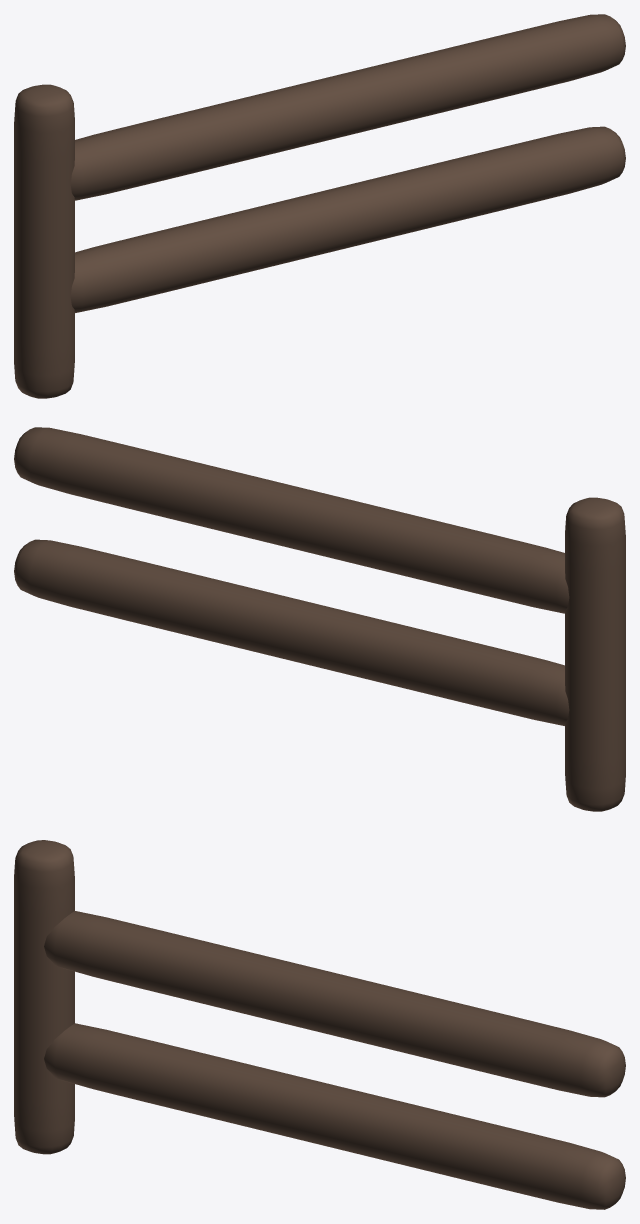
The model's file is fence.glb.
3 renders of one model, top to bottom at view 1: azimuth 30°, elevation 25°; view 2: azimuth 150°, elevation 25°; view 3: azimuth 330°, elevation 25°, orthographic.
Visible parts, largest first — view 1: fence_rail, fence_post; view 2: fence_rail, fence_post; view 3: fence_rail, fence_post.
Part boxes in pixels (x1,y1,x2,y2): fence_rail: (70, 14, 625, 312); fence_post: (14, 84, 74, 398); fence_rail: (14, 427, 569, 725); fence_post: (565, 497, 625, 811); fence_rail: (44, 911, 625, 1209); fence_post: (14, 840, 74, 1154).
Size of the model in its own units: 3.65 by 1.74 by 0.3196.
